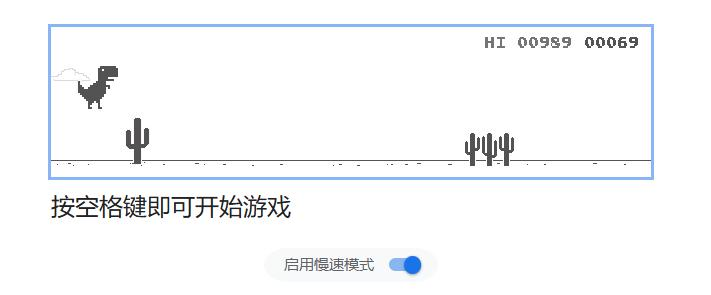cactus: (460, 130, 516, 169), (122, 117, 152, 168)
dino: (76, 62, 120, 112)
